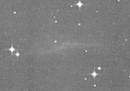Halpha: (29, 28, 112, 64)
